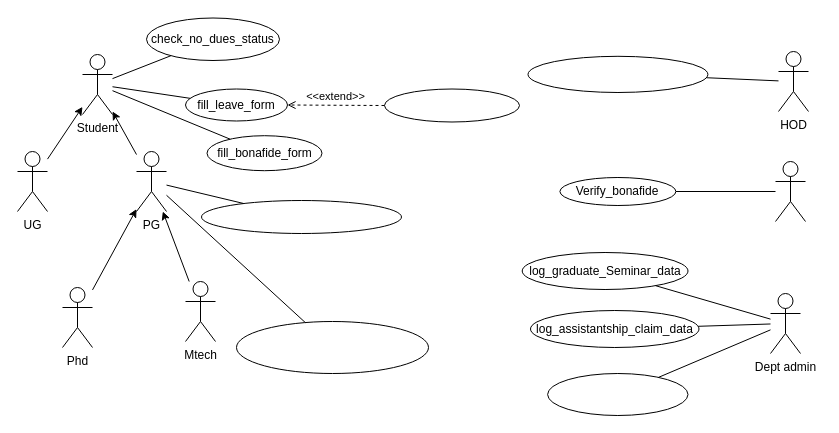
Some shapes in this 839 by 433 pixel diagram are drawn without their labels. Here are the shapes that lost their labels. From the top down, the centre of each, then its label:
At (x=617, y=73): "approve/reject_leave_request".
At (x=452, y=105): "upload_document".
At (x=790, y=191): "Acad admin".
At (x=301, y=217): "check_graduate_seminar_status".
At (x=332, y=347): "check_assistantship_claim_status".
At (x=617, y=394): "update_no dues_status".
